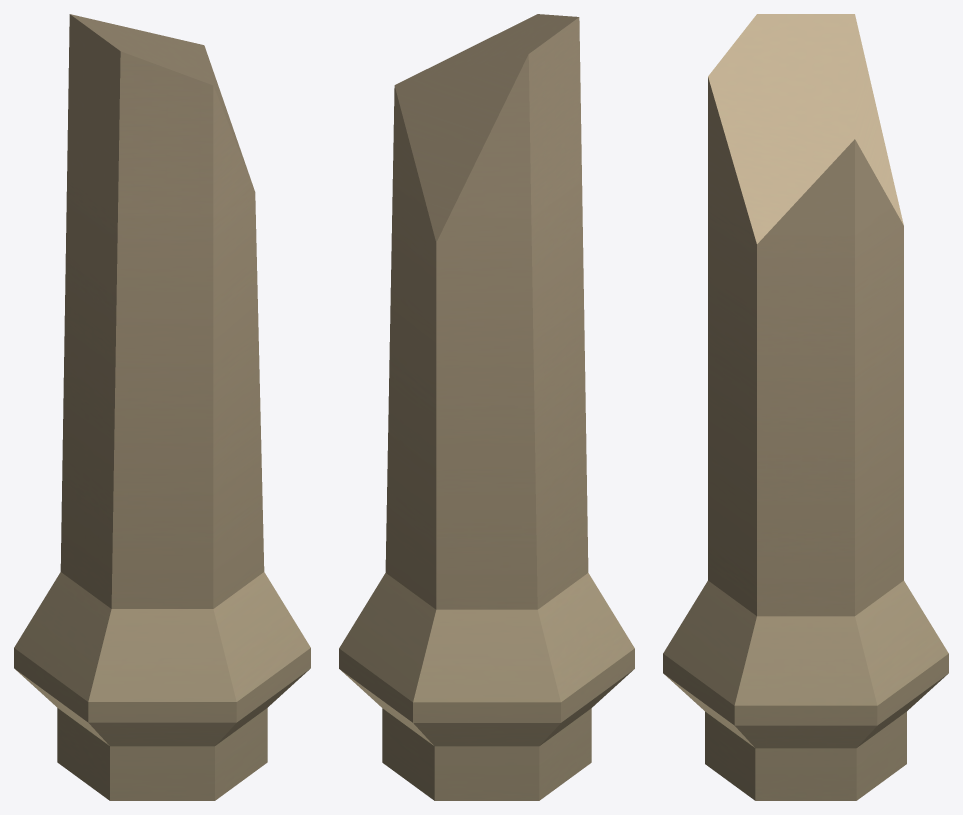
File: Rock+3.fbx
3 renders of one model, left to right at view 1: azimuth 30°, elevation 25°; view 2: azimuth 150°, elevation 25°; view 3: azimuth 270°, elevation 25°, orthographic. The views are drawn at different scales.
Parts seen in each view (by area): view 1: Rock 3; view 2: Rock 3; view 3: Rock 3.
Part boxes in pixels (x1,y1,x2,y2): Rock 3: (14,14,310,800); Rock 3: (339,14,634,800); Rock 3: (663,14,948,800).
Bounding box in the file's own units: 103 × 330 × 119.
